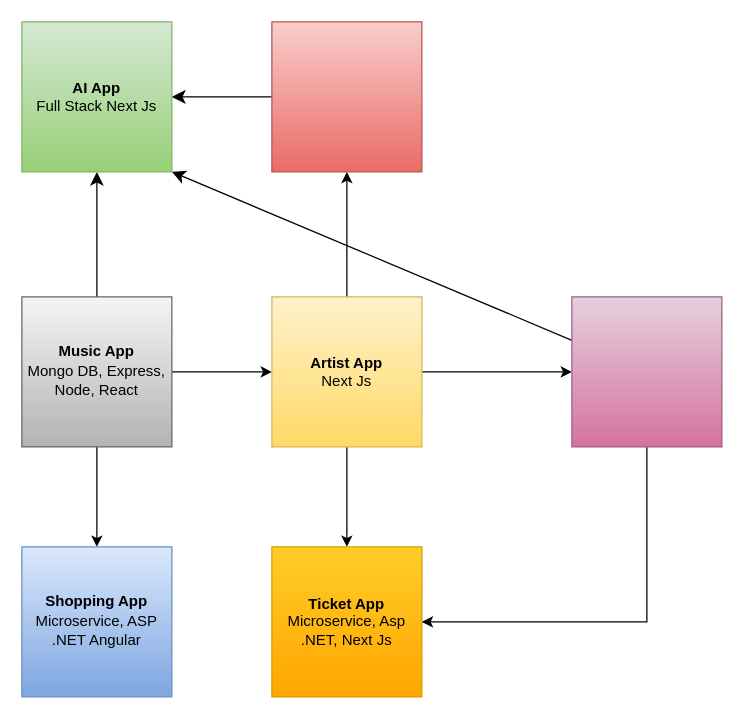
This 744x719 diagram has some shape labels left out. The shapes that lost their labels are listed below. From the top down, each one's box as (x1, y1, x2, y2) in pixels, then its label:
(271, 21, 422, 172): Video App T3 Stack
(571, 296, 722, 447): Event App ASP NET, React
